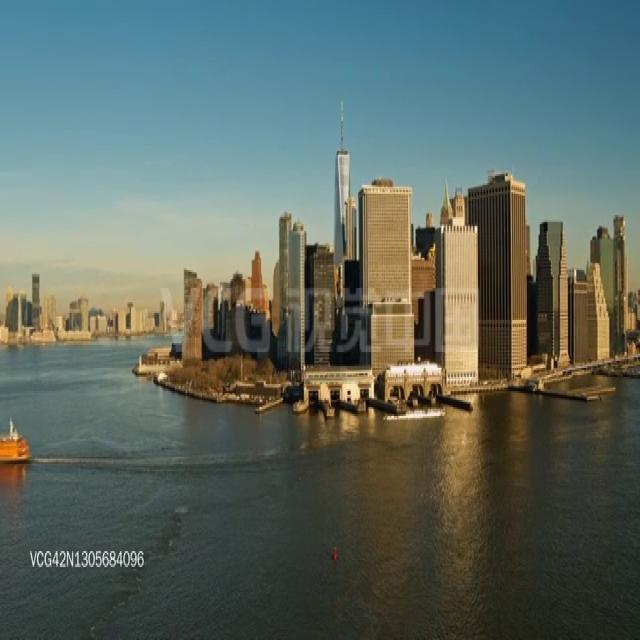passenger ship: (0, 418, 30, 464)
